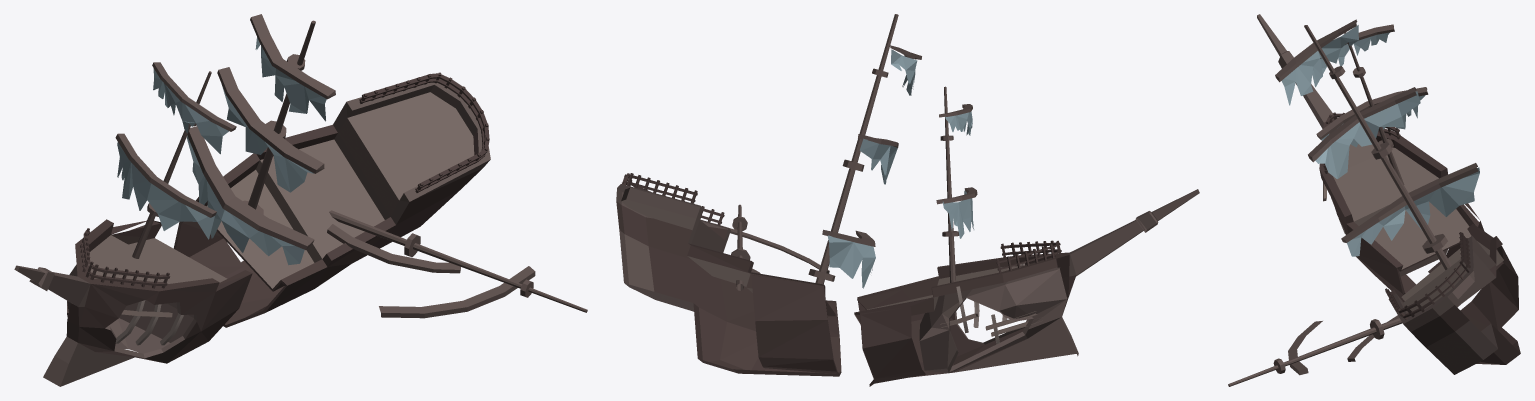
Rendered from M_chenchuan01.FBX.
3 views of the same model, side by side, from view 1: azimuth 30°, elevation 25°; view 2: azimuth 150°, elevation 25°; view 3: azimuth 270°, elevation 25° (orthographic). The views are drawn at different scales.
Parts seen in each view (by area): view 1: ship.023; view 2: ship.023; view 3: ship.023.
Part boxes in pixels (<box>): ship.023: <box>14,14,587,386</box>; ship.023: <box>616,14,1199,386</box>; ship.023: <box>1228,14,1520,386</box>.
Bounding box in the file's own units: 40.94 × 24.83 × 21.34.
